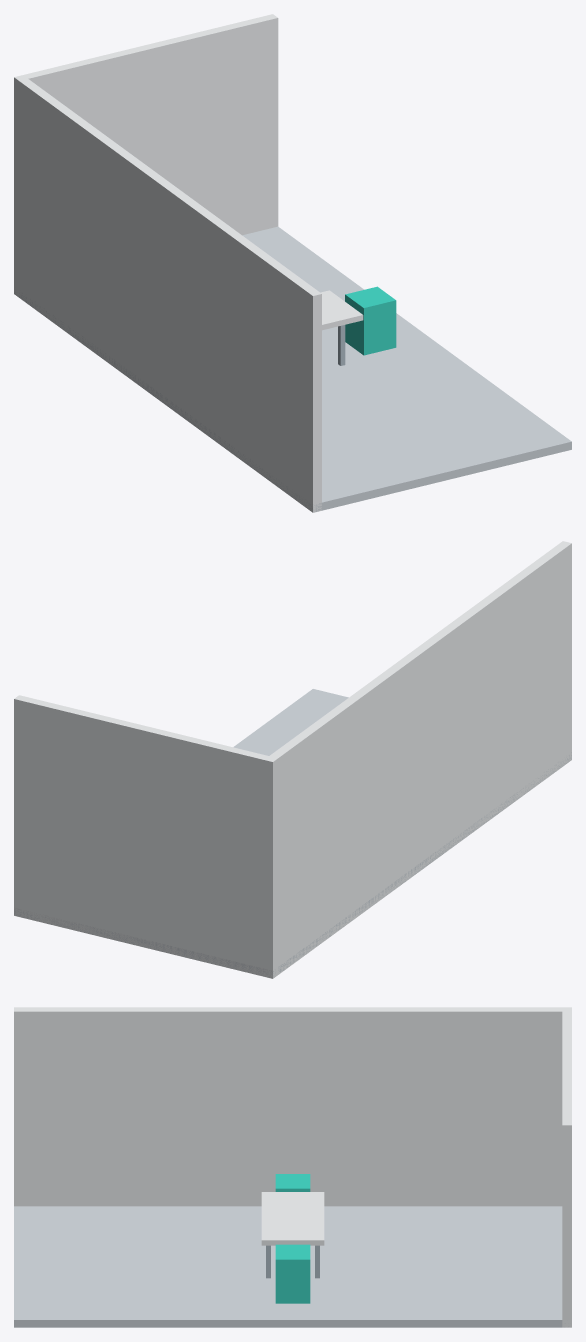
3 views of the same model, one above another, from view 1: azimuth 30°, elevation 25°; view 2: azimuth 150°, elevation 25°; view 3: azimuth 270°, elevation 25° (orthographic). The views are drawn at different scales.
Visible parts, largest first — view 1: Exhibition Booth Concept; view 2: Exhibition Booth Concept; view 3: Exhibition Booth Concept.
Boxes of the visible parts, x1,y1,x2,y2 form: Exhibition Booth Concept: (14,14,571,512); Exhibition Booth Concept: (14,541,571,978); Exhibition Booth Concept: (14,1007,571,1327).
Bounding box in the file's own units: 4 × 3.2 × 8.
